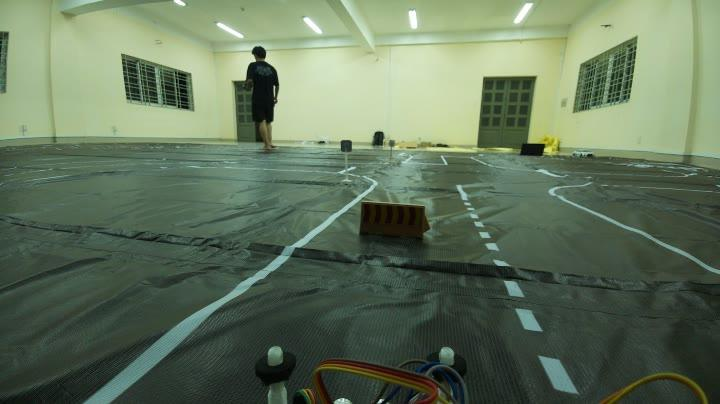roadblock: (352, 192, 441, 250)
